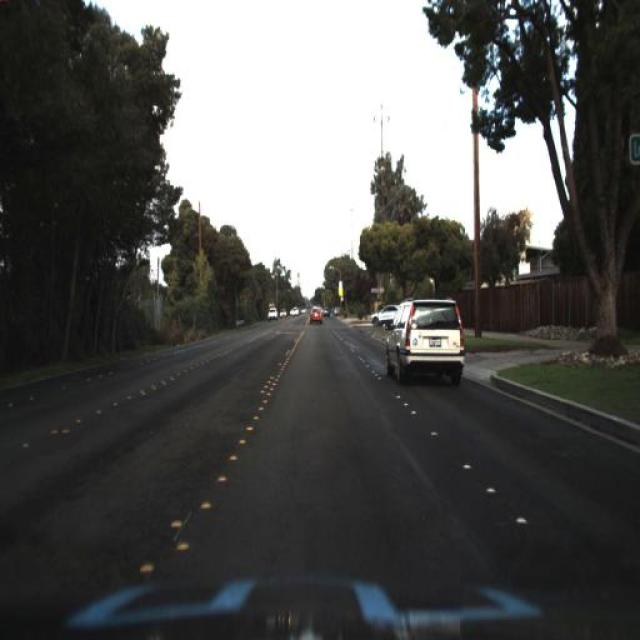car: (386, 297, 470, 389), (310, 302, 326, 323)
